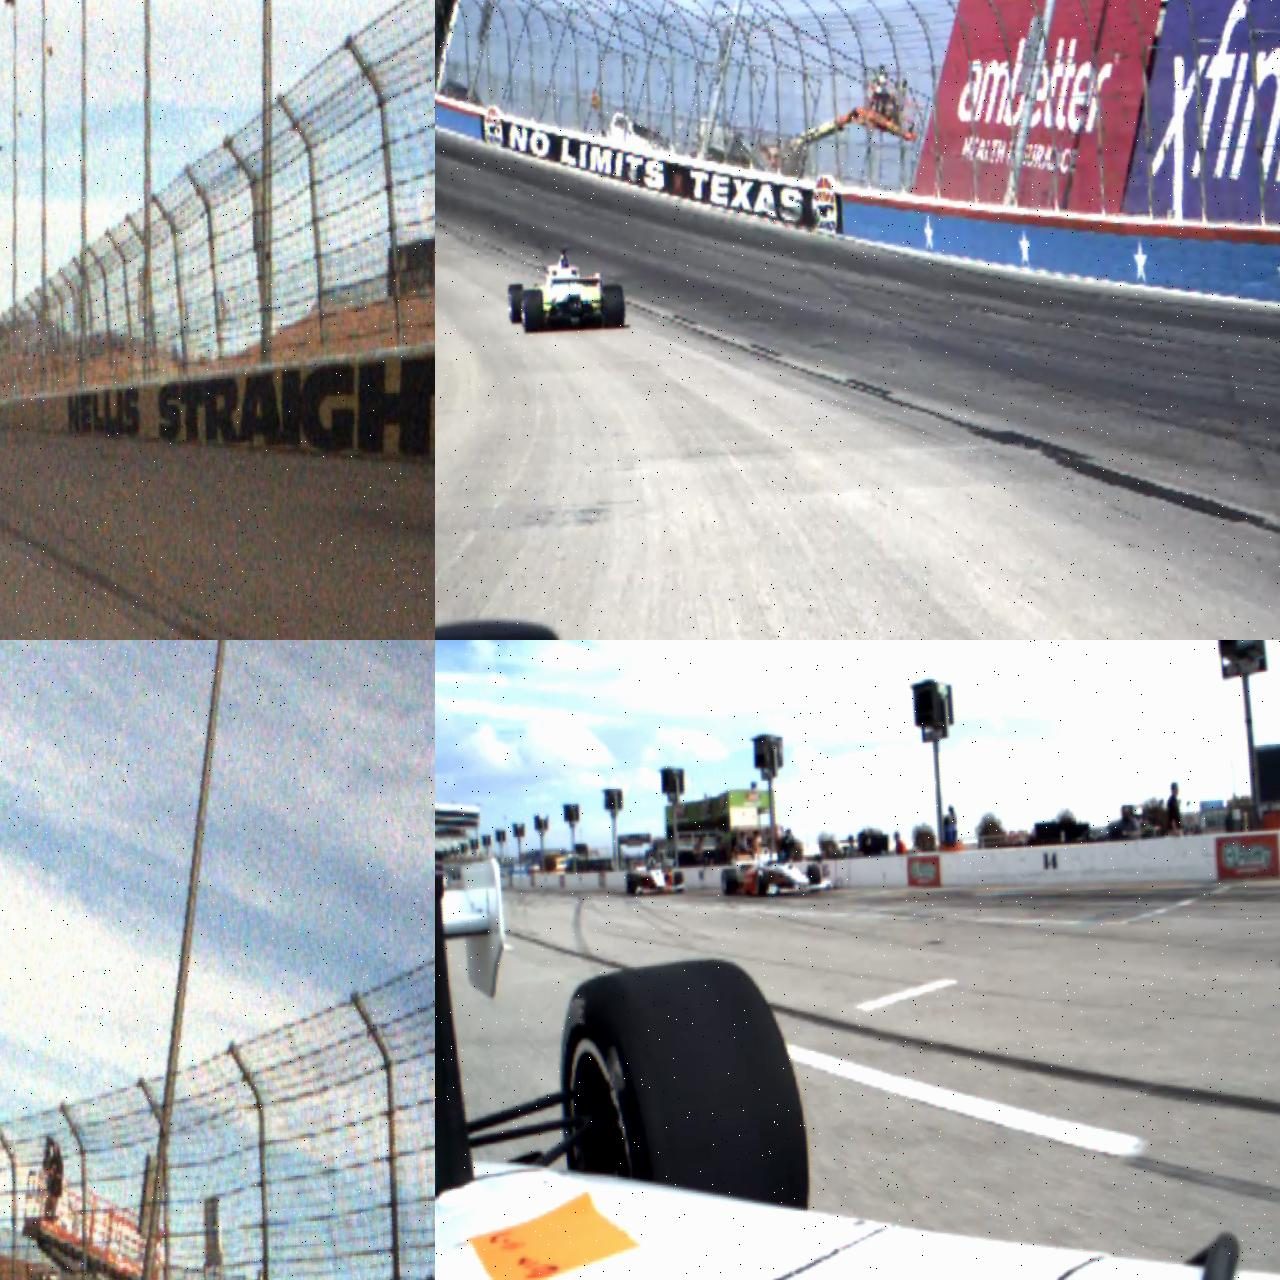AV: (504, 244, 626, 335), (719, 838, 822, 899), (625, 858, 685, 896)
Wheel: (554, 953, 810, 1221), (520, 288, 545, 334), (601, 284, 626, 329), (508, 282, 524, 324), (720, 869, 737, 897), (805, 863, 821, 892), (756, 867, 769, 898), (674, 871, 683, 892)
